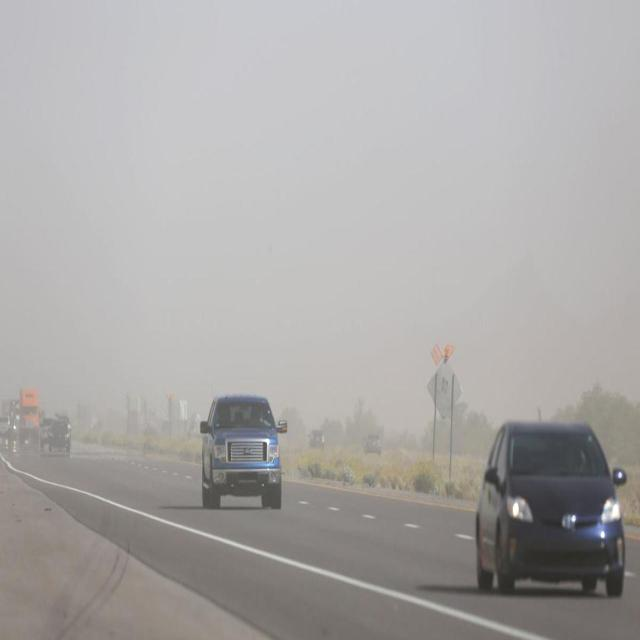Car: (476, 420, 630, 599), (201, 393, 289, 508), (48, 420, 71, 453), (363, 433, 382, 456), (307, 428, 325, 450)
Truck: (19, 387, 40, 438)
